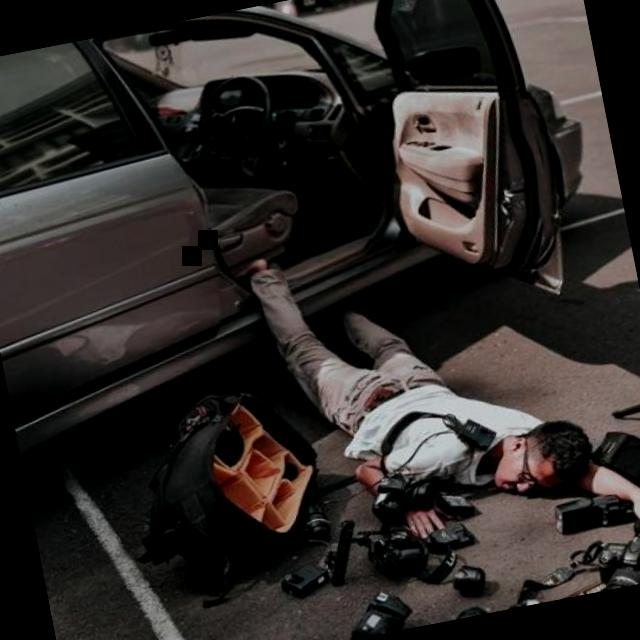Fall-Detected: (214, 168, 640, 596)
